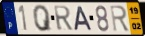1: (18, 5, 29, 33)
8: (95, 5, 110, 33)
A: (74, 5, 94, 31)
Q: (32, 4, 53, 33)
R: (109, 4, 131, 33), (53, 6, 74, 32)
